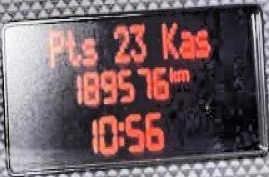0: (97, 114, 116, 154)
1: (75, 72, 82, 103), (90, 117, 96, 152)
2: (111, 23, 128, 62)
3: (129, 22, 145, 60)
5: (124, 112, 144, 150), (116, 67, 133, 102)
6: (144, 110, 164, 149), (151, 65, 167, 99)
7: (135, 65, 151, 97)
8: (83, 70, 99, 104)
9: (99, 69, 116, 104)
X: (160, 20, 177, 59), (48, 28, 64, 67), (64, 29, 80, 64), (80, 35, 97, 64), (178, 28, 194, 57), (194, 28, 210, 57), (116, 119, 123, 145), (176, 67, 189, 80), (167, 65, 176, 80)
